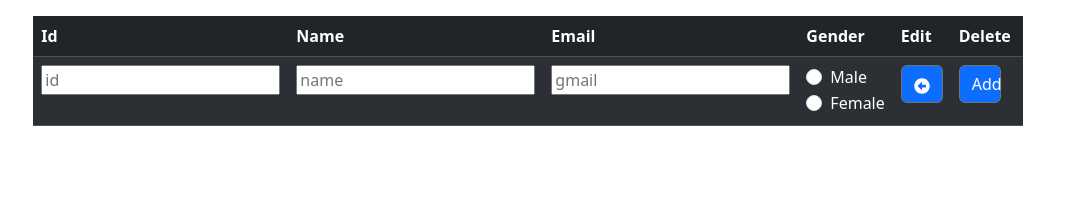
Test: adds a new item
// Fill in input fields
Type "1" into the number field with placeholder "id".
click(161, 80); type("1")  # box [41,65,280,95]
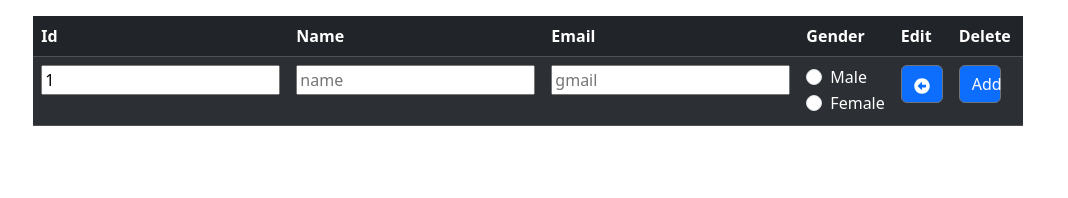
Type "jay" into the field with placeholder "name".
click(416, 80); type("jay")  # box [296,65,535,95]
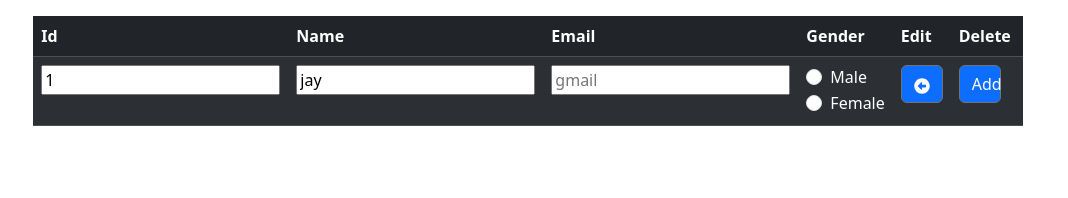
Type "jay@example.com" into the field with placeholder "gmail".
click(671, 80); type("jay@example.com")  # box [551,65,790,95]
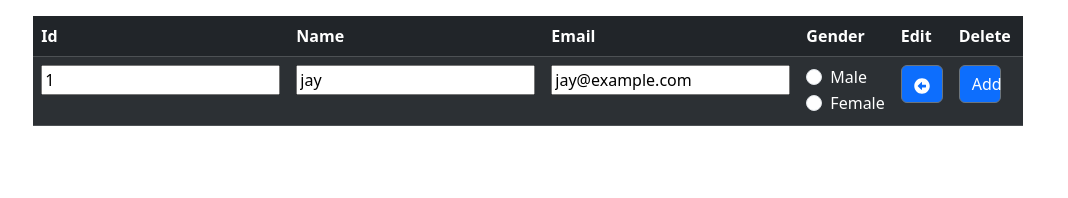
Click the radio button labelled "Male".
click(814, 77)  # box [806,69,822,85]
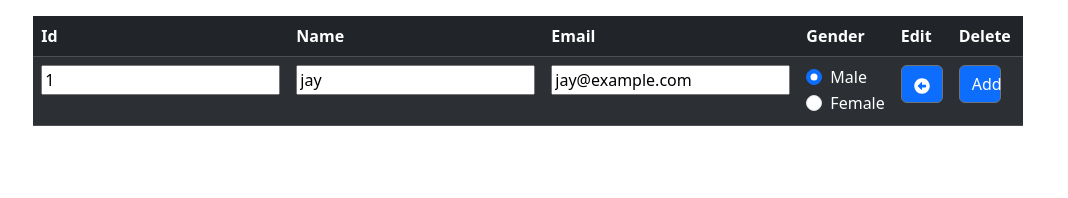
// Click Add button
Click the button "Add".
click(980, 84)  # box [959,65,1001,103]
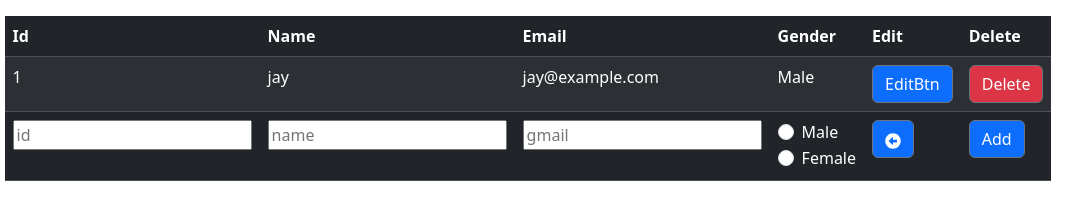
Expected: the radio button labelled "Male" is shown, [778,124,794,140]
Expected: the text "jay" is shown, [260,56,515,112]
Expected: the text "jay@example.com" is shown, [515,56,770,112]
